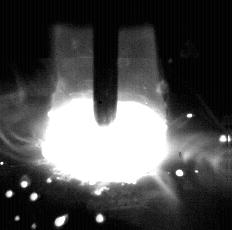arame: (94, 0, 118, 127)
poca: (43, 0, 167, 230)
